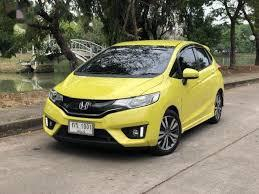Hatchback: (39, 36, 226, 155)
